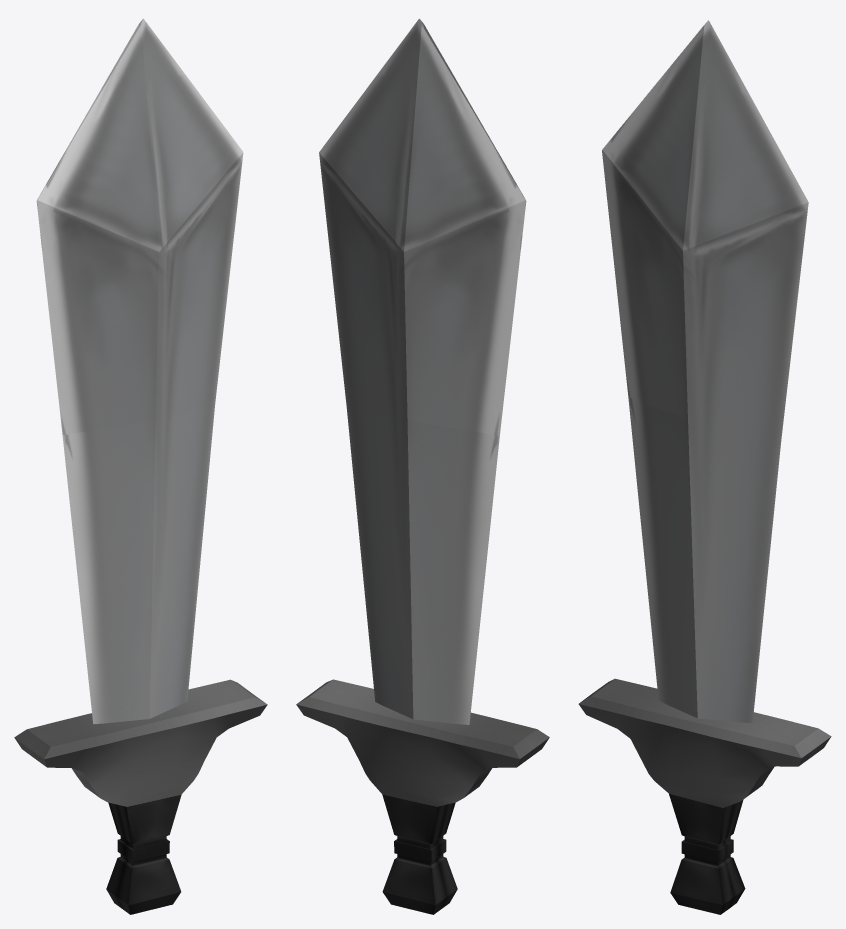
Rendered from Sword 1.fbx.
3 renders of one model, left to right at view 1: azimuth 30°, elevation 25°; view 2: azimuth 150°, elevation 25°; view 3: azimuth 330°, elevation 25°, orthographic.
Parts seen in each view (by area): view 1: swoard; view 2: swoard; view 3: swoard.
Part boxes in pixels (bbox=[...]): swoard: bbox=[14, 18, 267, 914]; swoard: bbox=[296, 18, 549, 914]; swoard: bbox=[578, 20, 831, 914].
Bounding box in the file's own units: 29.5 × 113 × 9.36.
